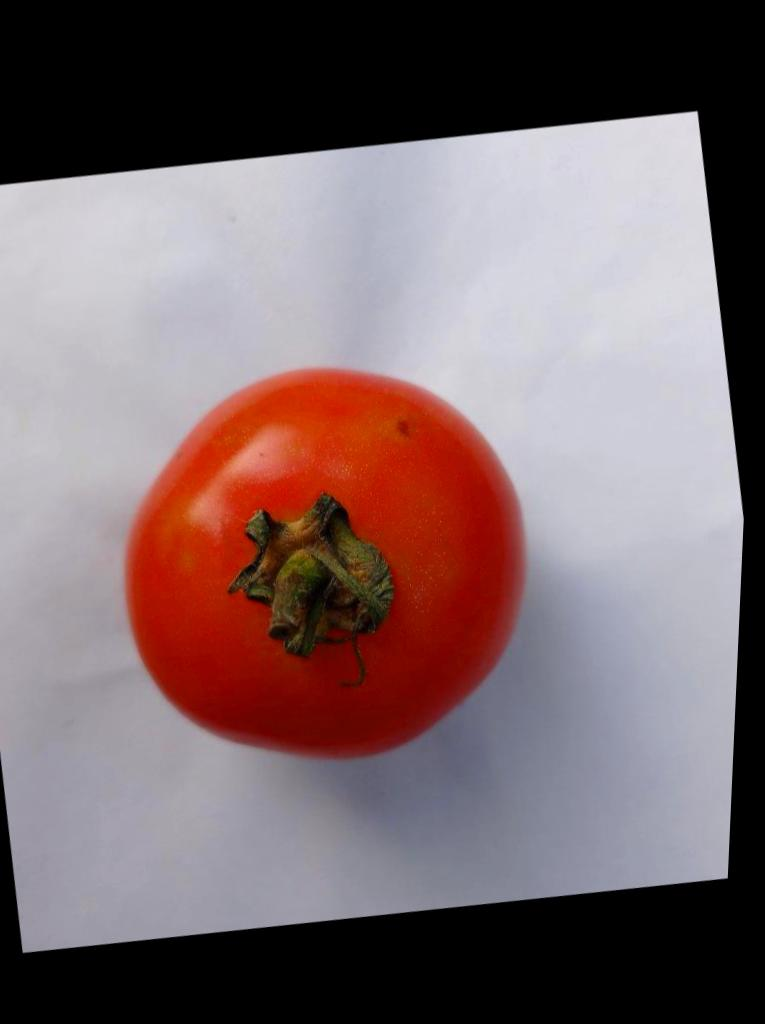tomato: (126, 370, 522, 758)
